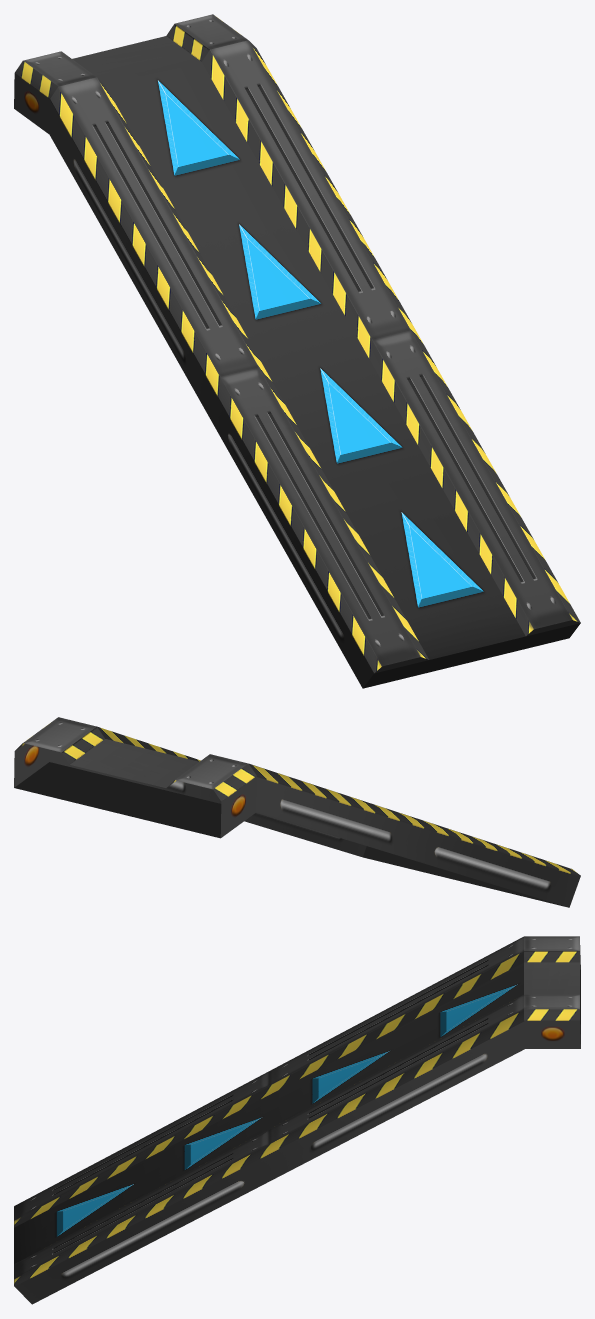
The model's file is Ramp.fbx.
3 views of the same model, one above another, from view 1: azimuth 30°, elevation 25°; view 2: azimuth 150°, elevation 25°; view 3: azimuth 270°, elevation 25° (orthographic). The views are drawn at different scales.
Parts seen in each view (by area): view 1: Ramp; view 2: Ramp; view 3: Ramp.
Boxes of the visible parts, <box> form: Ramp: <box>14,14,580,688</box>; Ramp: <box>14,717,580,907</box>; Ramp: <box>14,936,580,1304</box>.
Size of the model in its own units: 499 by 856 by 1506.
